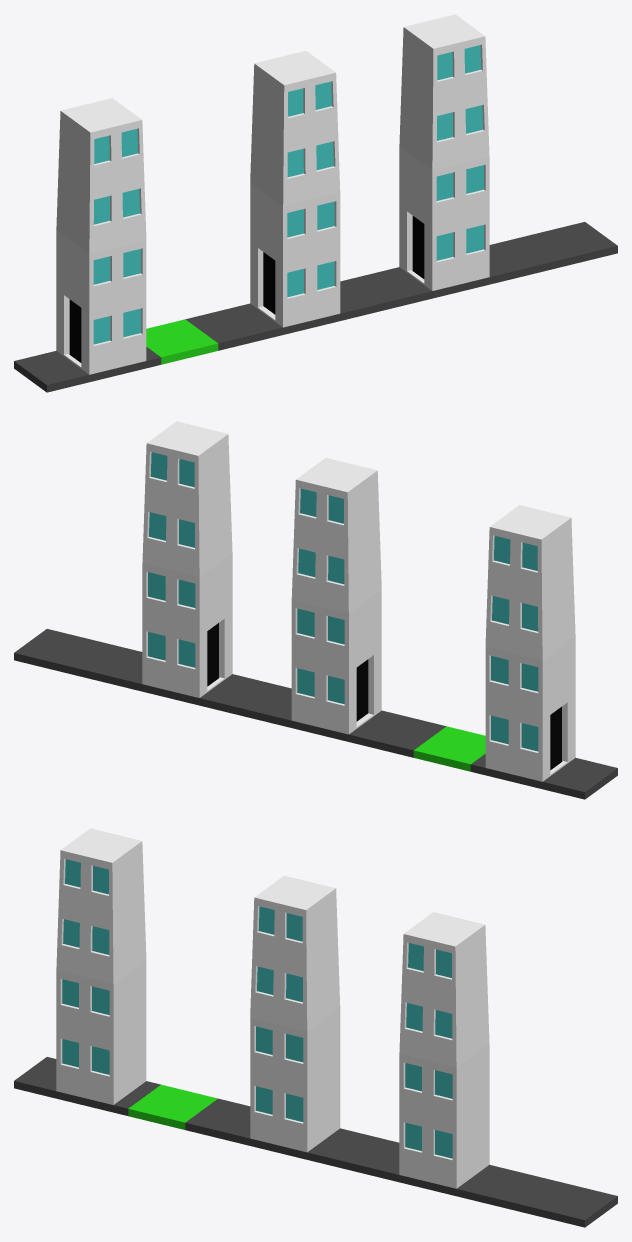
File: Platform1.fbx
The picture shows the model from 3 angles, top to bottom: view 1: azimuth 30°, elevation 25°; view 2: azimuth 150°, elevation 25°; view 3: azimuth 330°, elevation 25°; orthographic projection.
Parts seen in each view (by area): view 1: Building 1, Building 2, Building 3, Platform1Conc2, Platform1Conc1, Platform1Grass; view 2: Building 2, Building 3, Building 1, Platform1Conc2, Platform1Conc1, Platform1Grass; view 3: Building 3, Building 1, Building 2, Platform1Conc2, Platform1Grass, Platform1Conc1.
Part boxes in pixels (bbox=[...]): Building 1: bbox=[399, 14, 489, 290]; Building 2: bbox=[250, 51, 340, 327]; Building 3: bbox=[56, 98, 146, 374]; Platform1Conc2: bbox=[185, 222, 617, 350]; Platform1Conc1: bbox=[14, 347, 161, 392]; Platform1Grass: bbox=[146, 319, 218, 364]; Building 2: bbox=[291, 458, 381, 734]; Building 3: bbox=[485, 505, 575, 781]; Building 1: bbox=[142, 421, 232, 697]; Platform1Conc2: bbox=[14, 629, 446, 757]; Platform1Conc1: bbox=[470, 754, 617, 799]; Platform1Grass: bbox=[413, 726, 485, 771]; Building 3: bbox=[56, 828, 146, 1104]; Building 1: bbox=[399, 912, 489, 1188]; Building 2: bbox=[250, 875, 340, 1152]; Platform1Conc2: bbox=[185, 1098, 617, 1227]; Platform1Grass: bbox=[128, 1084, 217, 1129]; Platform1Conc1: bbox=[14, 1057, 160, 1115].
Size of the model in its own units: 2000 by 830 by 200.
